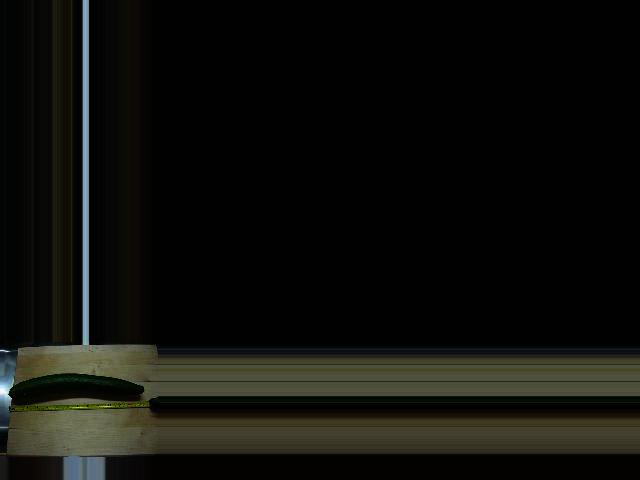cucumber: (8, 373, 144, 400)
